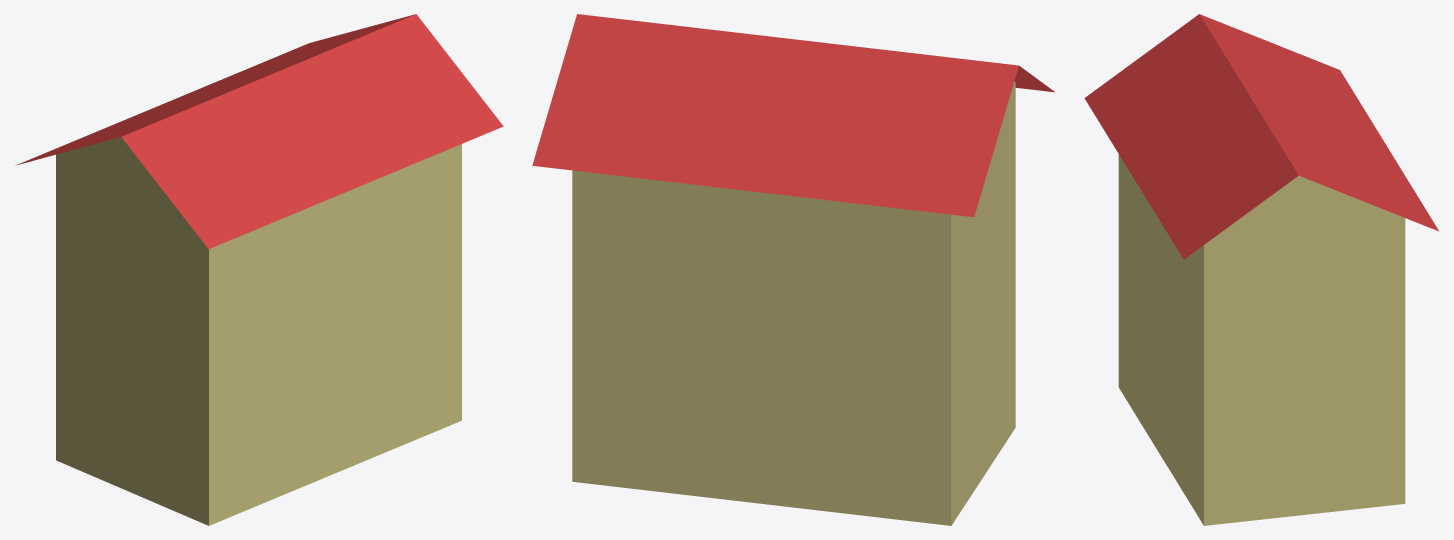
3 renders of one model, left to right at view 1: azimuth 30°, elevation 25°; view 2: azimuth 150°, elevation 25°; view 3: azimuth 270°, elevation 25°, orthographic. The views are drawn at different scales.
Size of the model in its own units: 7.99 by 6.32 by 6.92.
